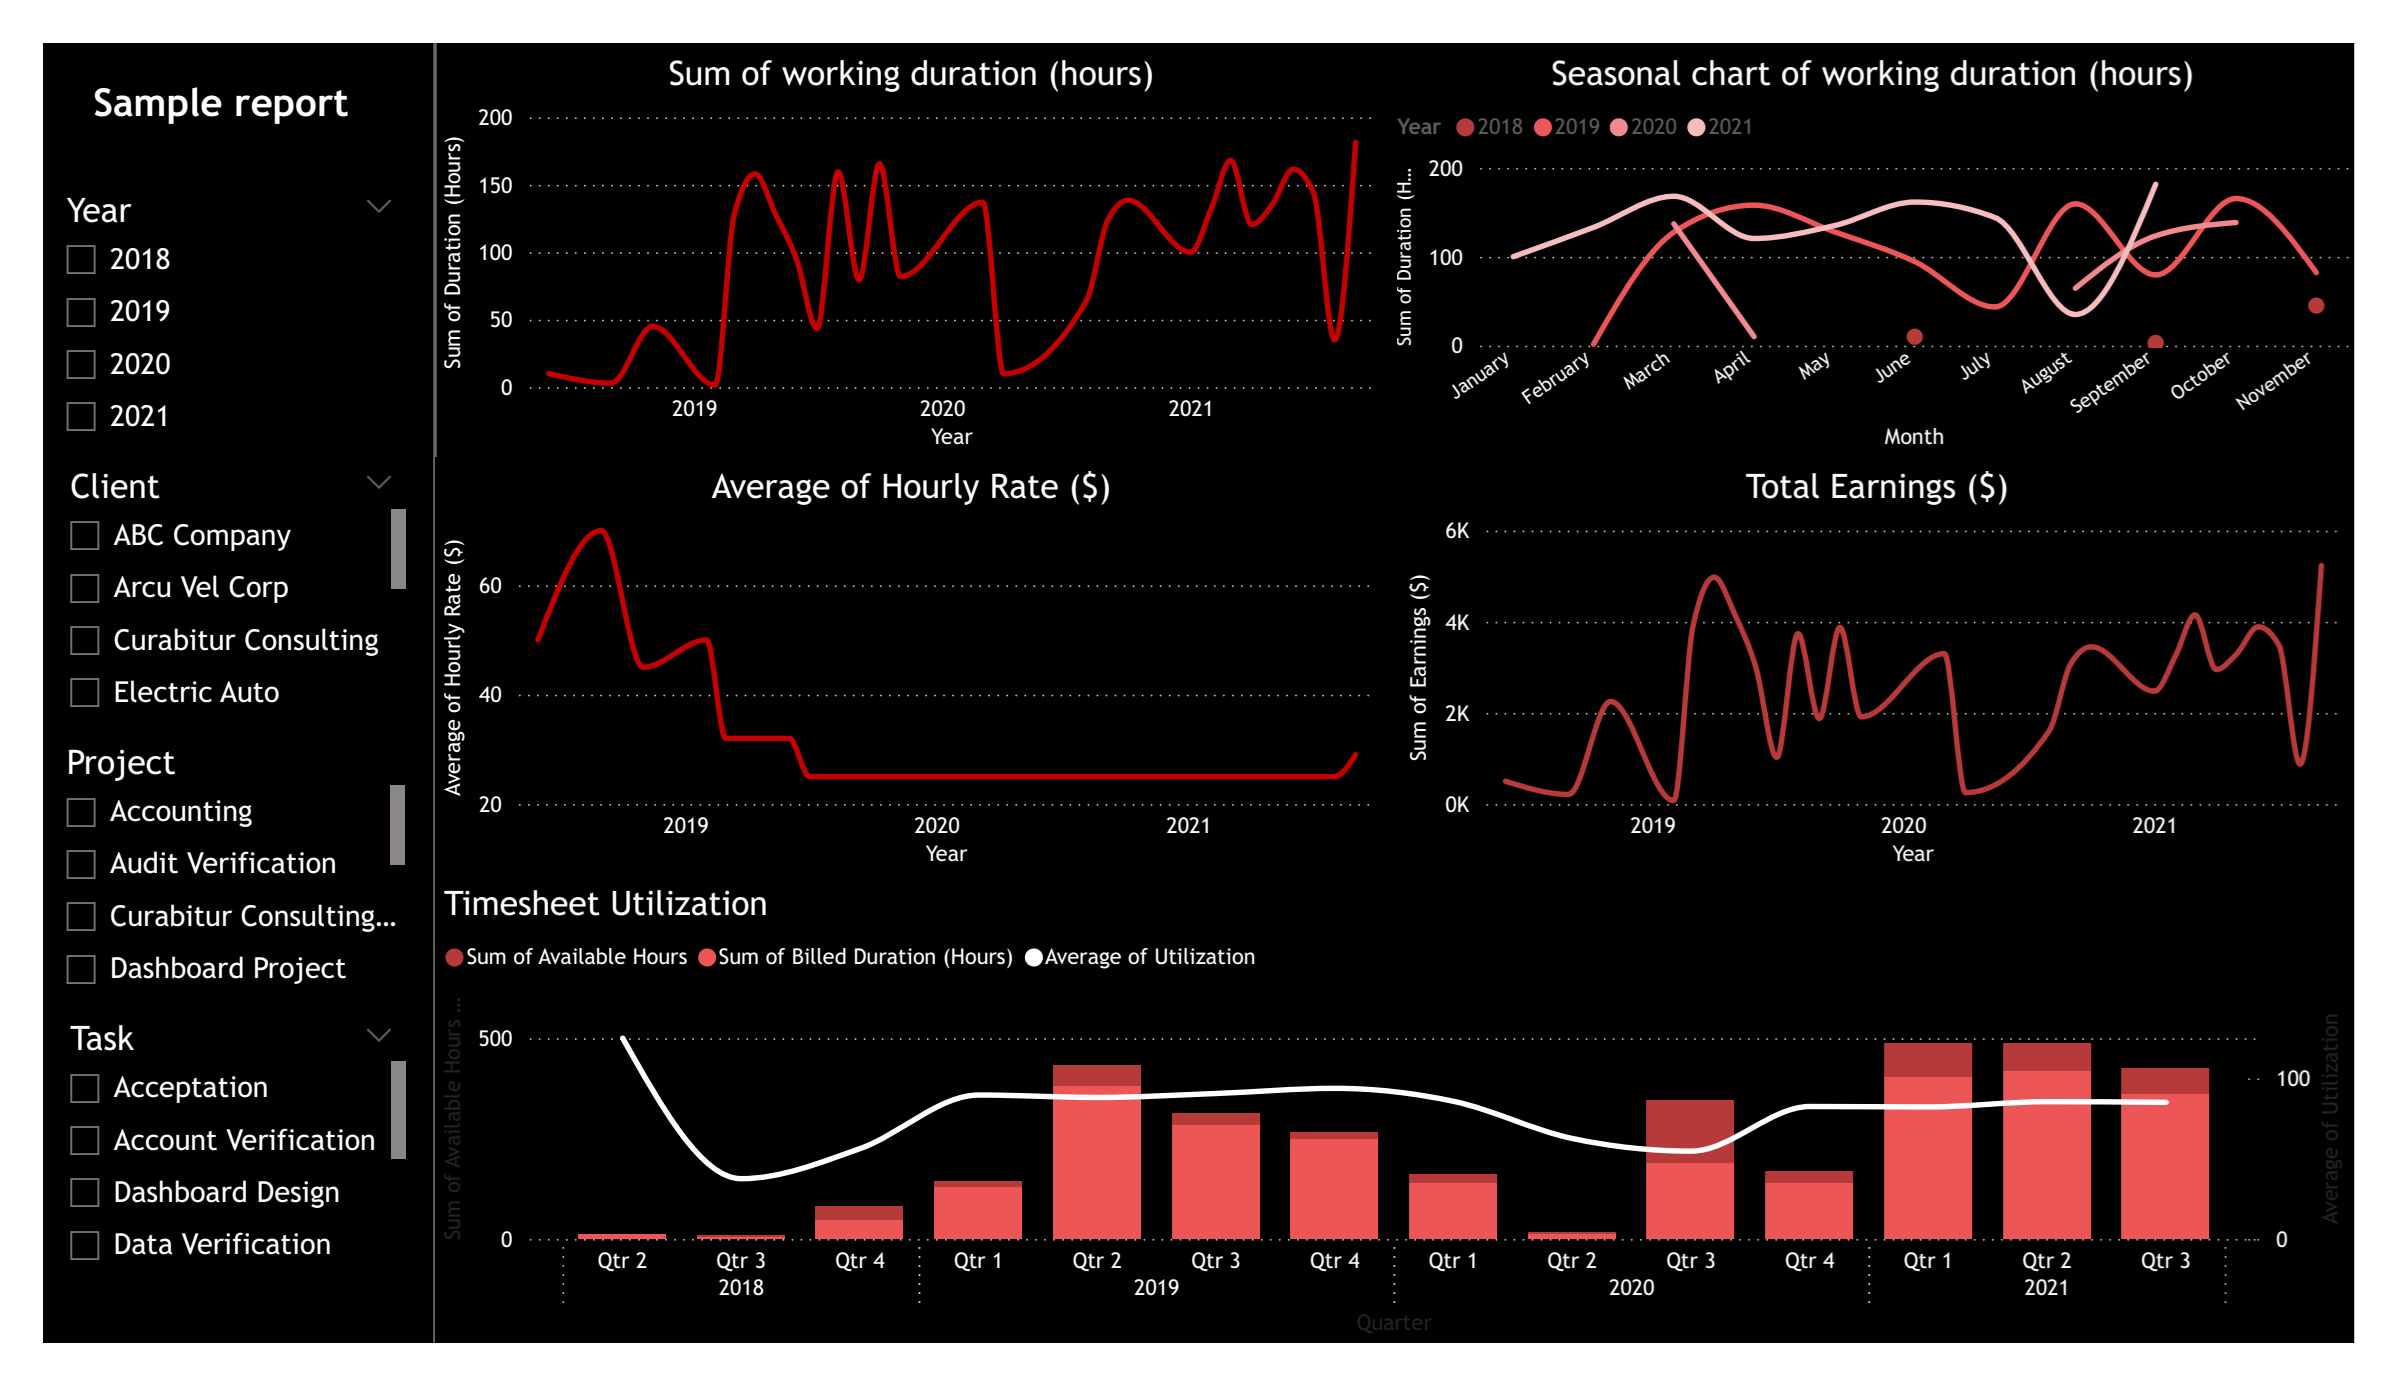

This screenshot's page, from the dashboard's own definition file:
{"tool":"powerbi","page":{"name":"Page 1","canvas":[1280,720],"ordinal":0},"visuals":[{"type":"lineChart","title":"Sum of working duration (hours)","fields":{"Y":["Sum(numbers-export-atwork.Duration (Hours))"],"Category":["numbers-export-atwork.End.Variation.Date Hierarchy.Year","numbers-export-atwork.End.Variation.Date Hierarchy.Quarter","numbers-export-atwork.End.Variation.Date Hierarchy.Month"]},"box":[216.9,0,527.8,229],"z":0},{"type":"slicer","fields":{"Values":["numbers-export-atwork.End.Variation.Date Hierarchy.Year"]},"box":[0,75.8,206.3,153.2],"z":2000},{"type":"shape","box":[125.9,0,182,720.4],"z":3000},{"type":"slicer","fields":{"Values":["numbers-export-atwork.Client"]},"box":[1.5,229,204.7,153.2],"z":4000},{"type":"slicer","fields":{"Values":["numbers-export-atwork.Project"]},"box":[0,382.2,204.7,153.2],"z":5000},{"type":"slicer","fields":{"Values":["numbers-export-atwork.Task"]},"box":[1.5,535.4,204.7,153.2],"z":6000},{"type":"lineChart","title":"Average of Hourly Rate ($)","fields":{"Category":["numbers-export-atwork.End.Variation.Date Hierarchy.Year","numbers-export-atwork.End.Variation.Date Hierarchy.Quarter","numbers-export-atwork.End.Variation.Date Hierarchy.Month"],"Y":["Avg(numbers-export-atwork.Hourly Rate ($))"]},"box":[216.9,229,527.8,230.5],"z":7000},{"type":"lineChart","title":"Seasonal chart of working duration (hours)","fields":{"Y":["Sum(numbers-export-atwork.Duration (Hours))"],"Series":["numbers-export-atwork.End.Variation.Date Hierarchy.Year"],"Category":["numbers-export-atwork.End.Variation.Date Hierarchy.Month"]},"box":[744.6,0,536.9,229],"z":8000},{"type":"lineChart","title":"Total Earnings ($)","fields":{"Category":["numbers-export-atwork.End.Variation.Date Hierarchy.Year","numbers-export-atwork.End.Variation.Date Hierarchy.Quarter","numbers-export-atwork.End.Variation.Date Hierarchy.Month"],"Y":["Sum(numbers-export-atwork.Earnings ($))"]},"box":[752.2,229,527.8,230.5],"z":8001},{"type":"lineClusteredColumnComboChart","title":"Timesheet Utilization","fields":{"Category":["numbers-export-atwork.End.Variation.Date Hierarchy.Year","numbers-export-atwork.End.Variation.Date Hierarchy.Quarter","numbers-export-atwork.End.Variation.Date Hierarchy.Month"],"Y":["Sum(numbers-export-atwork.AvailHour)","Sum(numbers-export-atwork.Duration (Hours))"],"Y2":["Avg(numbers-export-atwork.Utilization)"]},"box":[216.9,459.5,1063.1,260.9],"z":8002},{"type":"textbox","box":[1.4,14.9,194.5,44.6],"z":8003}]}

Visuals, with their boxes in screenshot pixels (x1, y1, x2, y2), scaled from the page's 1280x720 canvas onto the 2398x1387 screenshot:
"Sum of working duration (hours)" lineChart: box=[406, 0, 1395, 441]
slicer - numbers-export-atwork.End.Variation.Date Hierarchy.Year: box=[0, 146, 386, 441]
shape: box=[236, 0, 577, 1386]
slicer - numbers-export-atwork.Client: box=[3, 441, 386, 736]
slicer - numbers-export-atwork.Project: box=[0, 736, 383, 1031]
slicer - numbers-export-atwork.Task: box=[3, 1031, 386, 1327]
"Average of Hourly Rate ($)" lineChart: box=[406, 441, 1395, 885]
"Seasonal chart of working duration (hours)" lineChart: box=[1395, 0, 2397, 441]
"Total Earnings ($)" lineChart: box=[1409, 441, 2397, 885]
"Timesheet Utilization" lineClusteredColumnComboChart: box=[406, 885, 2397, 1386]
textbox: box=[3, 29, 367, 115]
